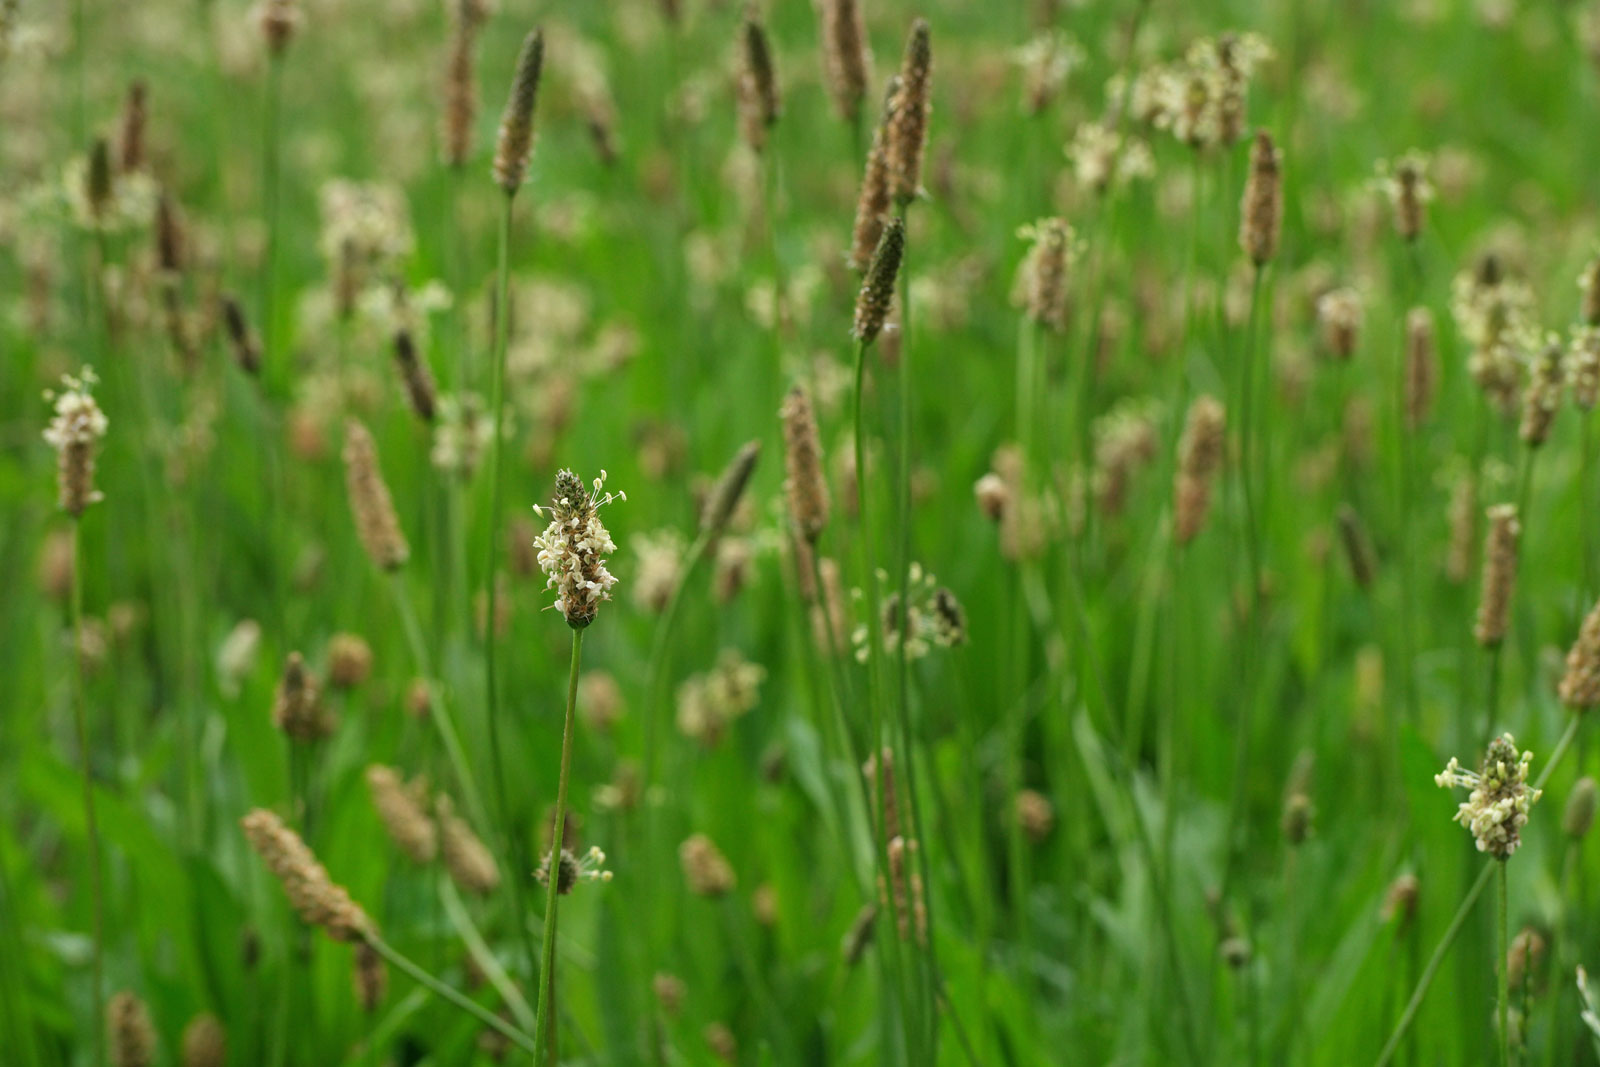buckhorn plantain: (74, 56, 1599, 1057), (475, 442, 631, 629), (1435, 729, 1550, 871), (19, 391, 125, 520)
